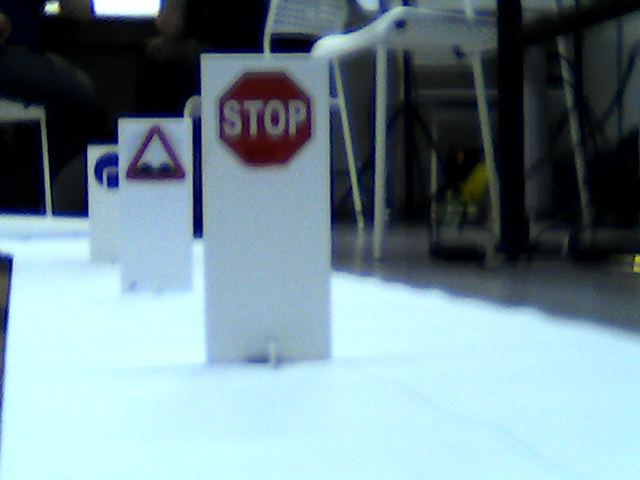Stop: (216, 68, 314, 174)
